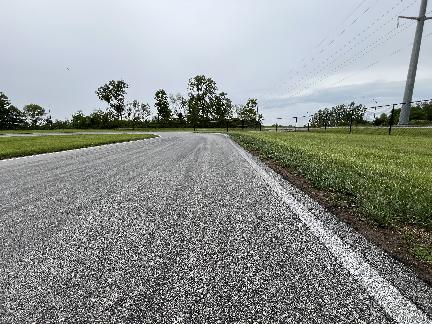Grass: (230, 132, 431, 285), (0, 134, 156, 158)
Lane: (0, 133, 431, 323)
